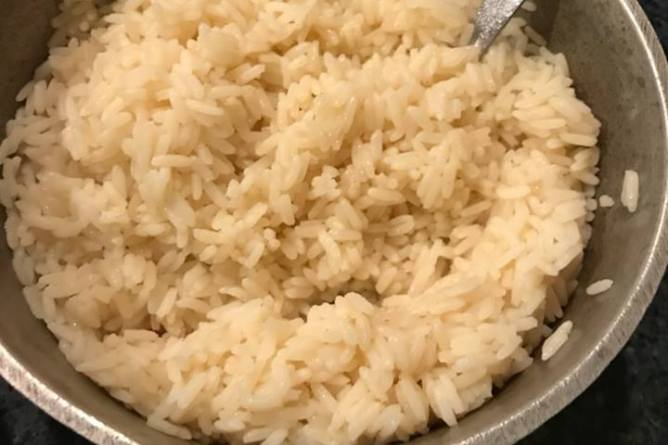plain rice: (46, 29, 617, 381)
